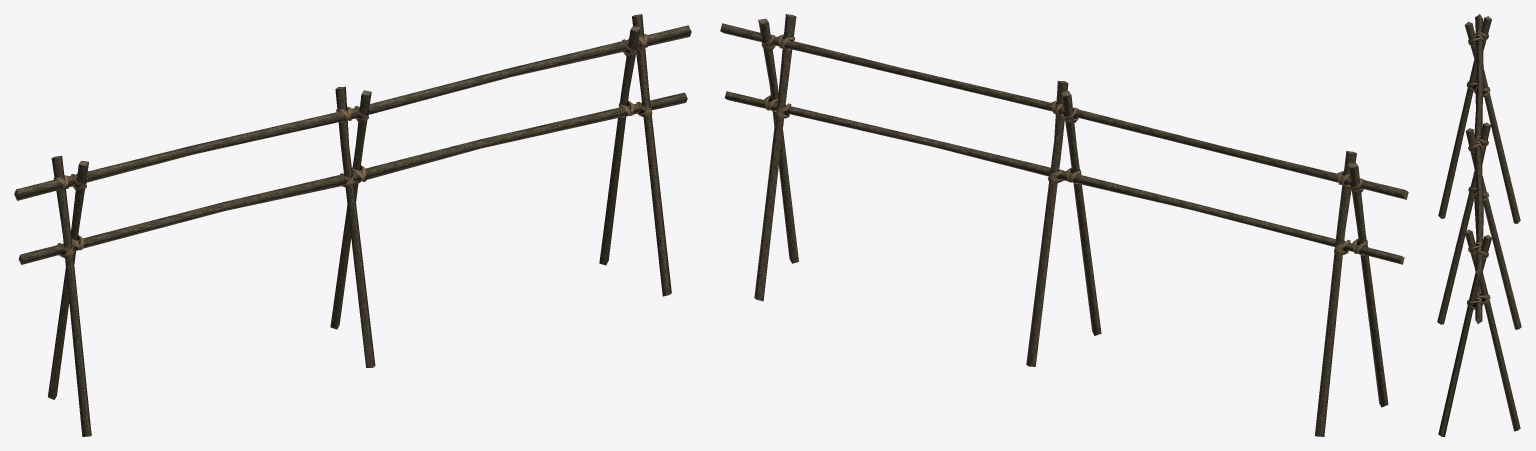
Rendered from thm_dant_fence_8m_l1.fbx.
3 renders of one model, left to right at view 1: azimuth 30°, elevation 25°; view 2: azimuth 150°, elevation 25°; view 3: azimuth 270°, elevation 25°, orthographic. The views are drawn at different scales.
Visible parts, largest first — view 1: mesh_node; view 2: mesh_node; view 3: mesh_node.
Part boxes in pixels (x1=…): mesh_node: x1=14, y1=14, x2=691, y2=436; mesh_node: x1=720, y1=14, x2=1408, y2=436; mesh_node: x1=1437, y1=14, x2=1521, y2=436.
Bounding box in the file's own units: 7.96 × 2.95 × 1.12.
